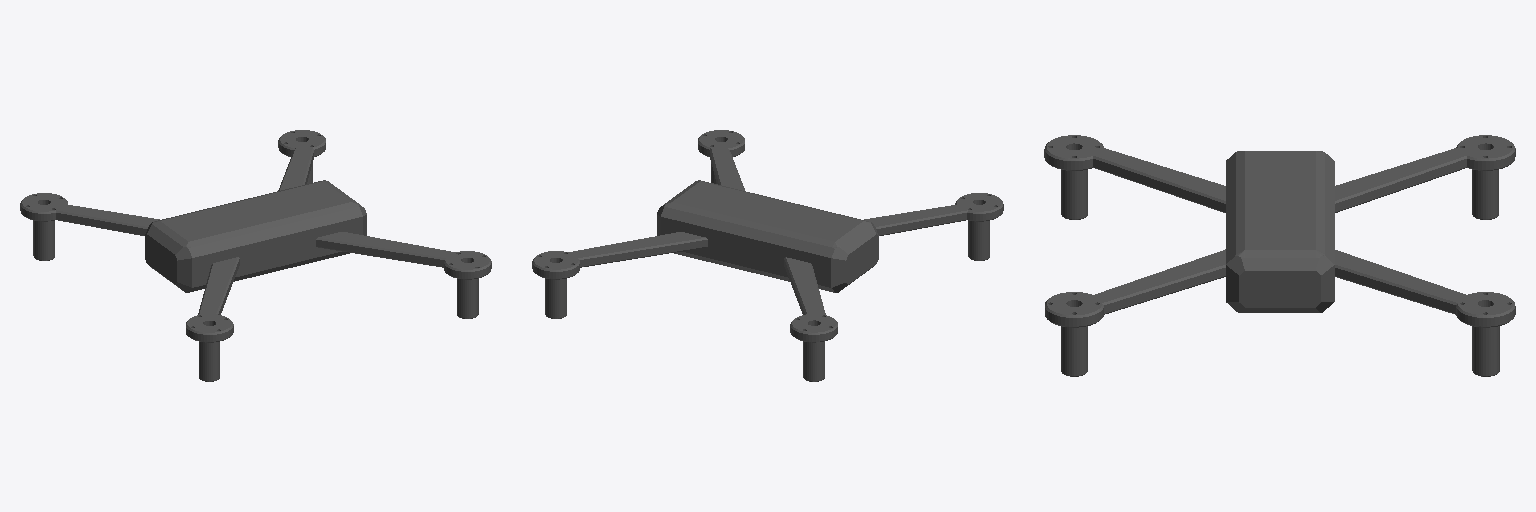
robot.urdf — quadcopter:
<?xml version="1.0"?>
<robot name="quadcopter">
  <link name="base_link">
    <!-- Visual representation using the DAE mesh file -->
    <visual>
      <origin xyz="0.0 0.0 0.0" rpy="0 0 0"/>
      <geometry>
        <mesh filename="package://multi_quadcopter_geometric_control/meshes/quad_model_v4.dae" scale="0.0014 0.0014 0.0014"/>
      </geometry>
    </visual>

    <!-- Collision representation using the DAE mesh file -->
    <collision>
      <origin xyz="0 0 0" rpy="0 0 0"/>
      <geometry>
        <mesh filename="package://multi_quadcopter_geometric_control/meshes/quad_model_v4.dae" scale="0.0014 0.0014 0.0014"/>
      </geometry>
    </collision>
  </link>
</robot>

--- What the picture shows (computed from the rendered views, not written in the file) ---
3 views of the same robot in one strip: view 1: azimuth 30°, elevation 25°; view 2: azimuth 150°, elevation 25°; view 3: azimuth 270°, elevation 25° (orthographic).
Model quadcopter with 1 links and 0 joints (none), rooted at base_link, posed every joint at zero.
Visible links, largest first — view 1: base_link; view 2: base_link; view 3: base_link.
Boxes of the visible links, bbox=[...] form: base_link: bbox=[20, 130, 491, 381]; base_link: bbox=[532, 130, 1003, 381]; base_link: bbox=[1044, 135, 1515, 376].
Size in the robot's own frame: 0.4421 by 0.4838 by 0.105 metres.
1 mesh visuals loaded from 1 distinct referenced files (1 Collada DAE).